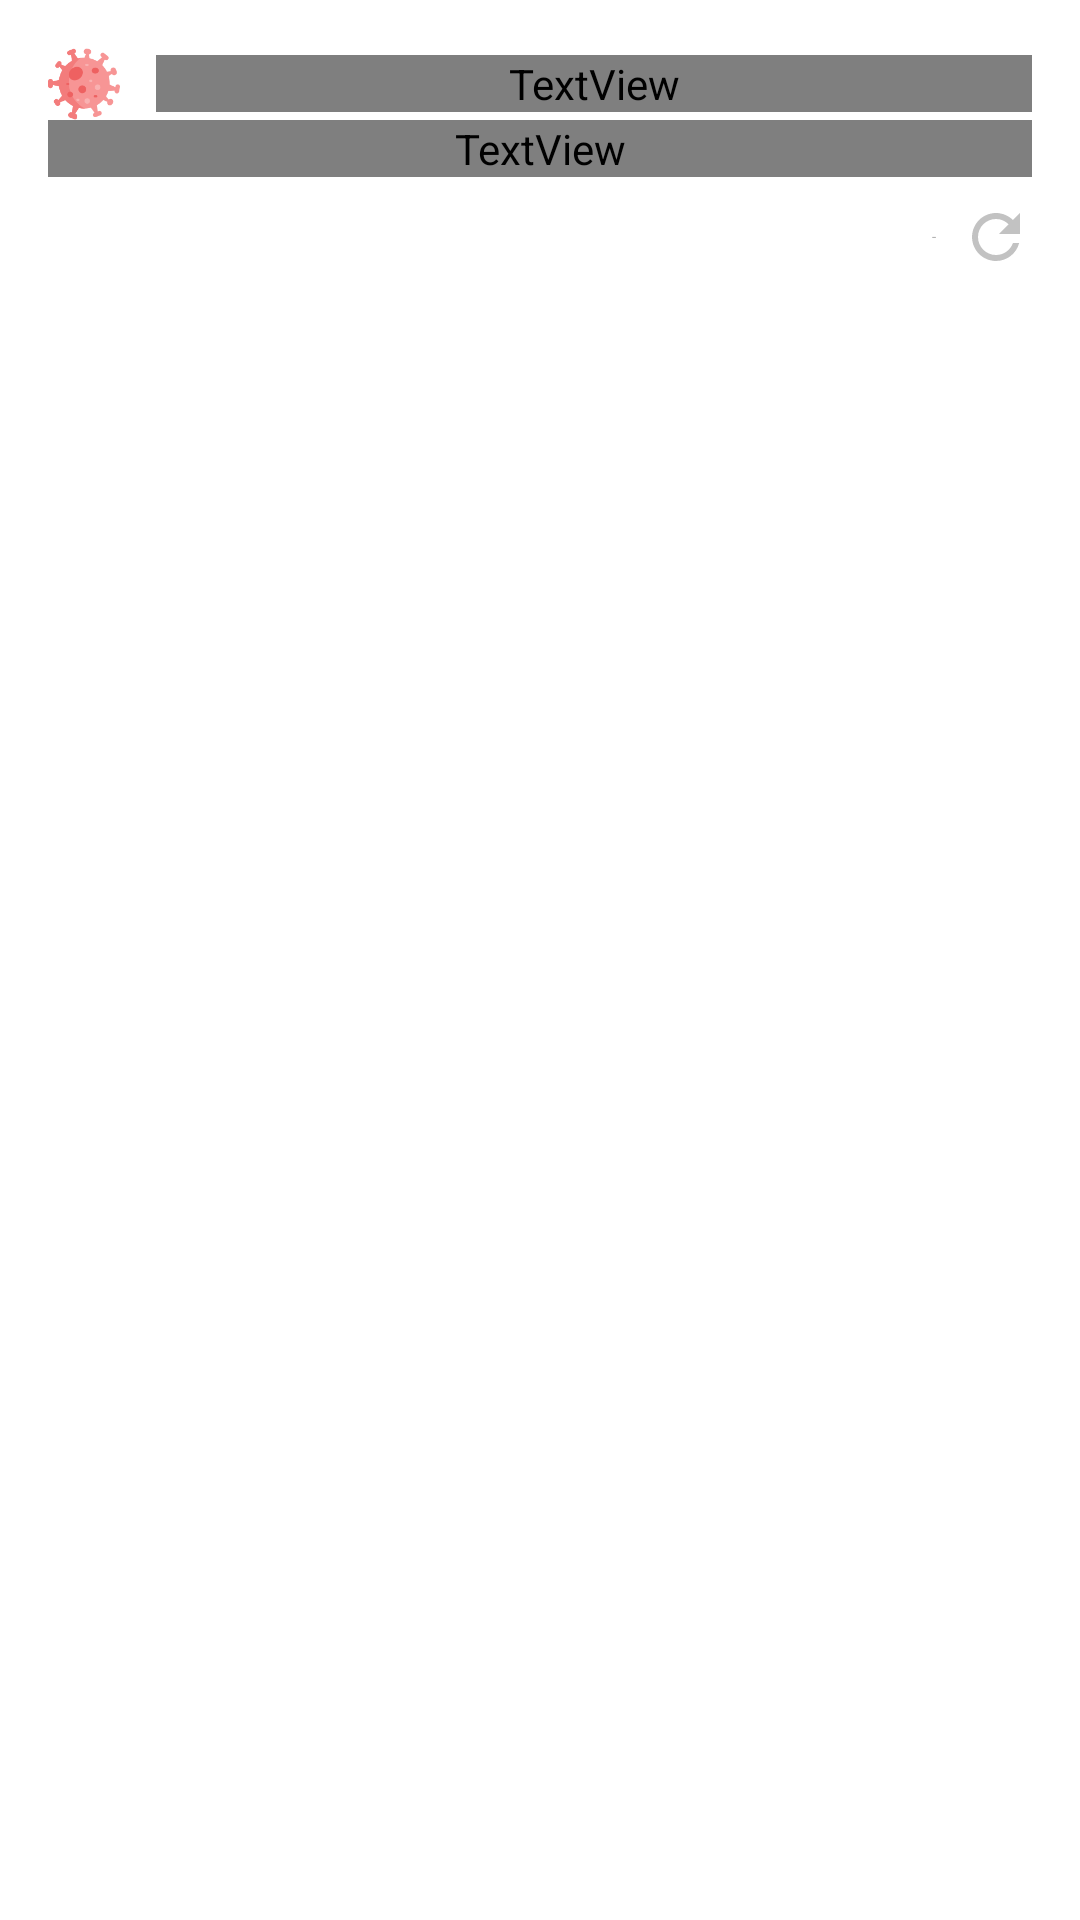

Locate icon controls on the screen. Image size 1080 x 1920, boxes as (x1, y1, x2, y2).
covid: (48, 48, 120, 120)
refresh: (972, 213, 1020, 261)
